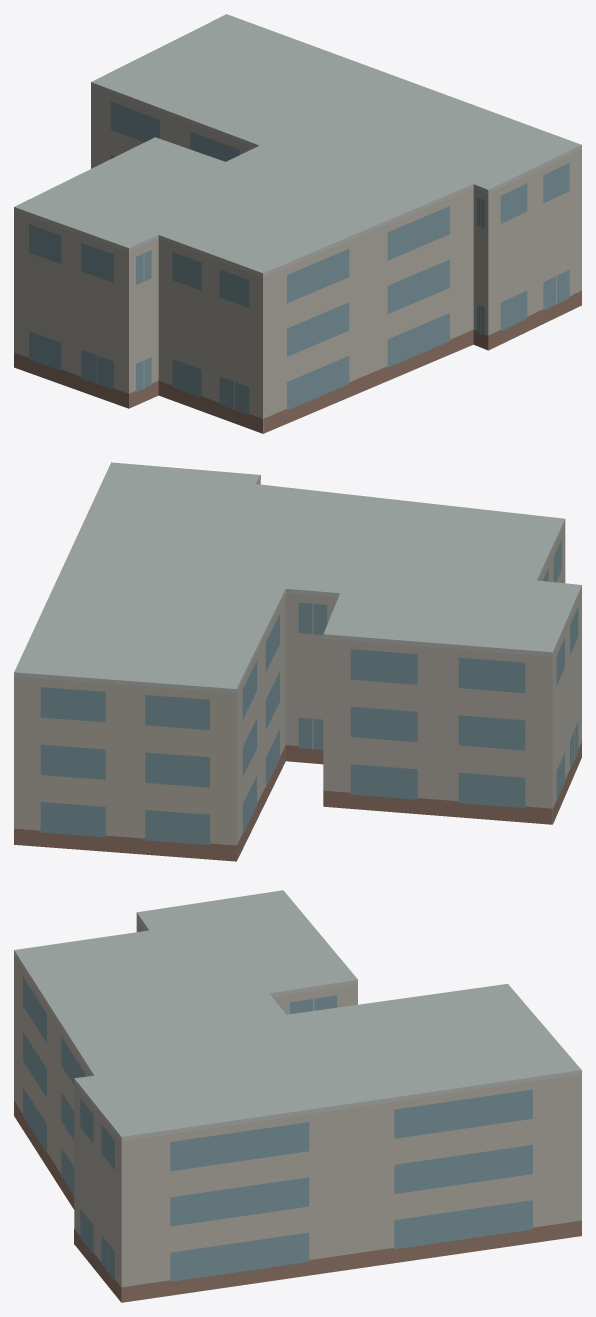
File: survey-upis-33011964.glb
3 renders of one model, top to bottom at view 1: azimuth 30°, elevation 25°; view 2: azimuth 150°, elevation 25°; view 3: azimuth 270°, elevation 25°, orthographic. The views are drawn at different scales.
Visible parts, largest first — view 1: survey-upis-33011964.tmp; view 2: survey-upis-33011964.tmp; view 3: survey-upis-33011964.tmp.
Part boxes in pixels (<box>): survey-upis-33011964.tmp: <box>14,14,581,433</box>; survey-upis-33011964.tmp: <box>14,462,581,861</box>; survey-upis-33011964.tmp: <box>14,890,581,1302</box>.
Bounding box in the file's own units: 30.96 × 9.7 × 30.11.
